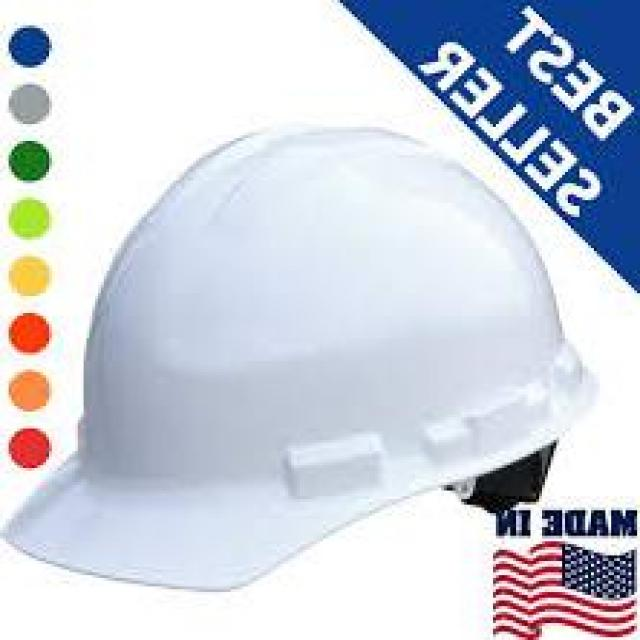Safety-Helmet: (40, 42, 620, 575)
